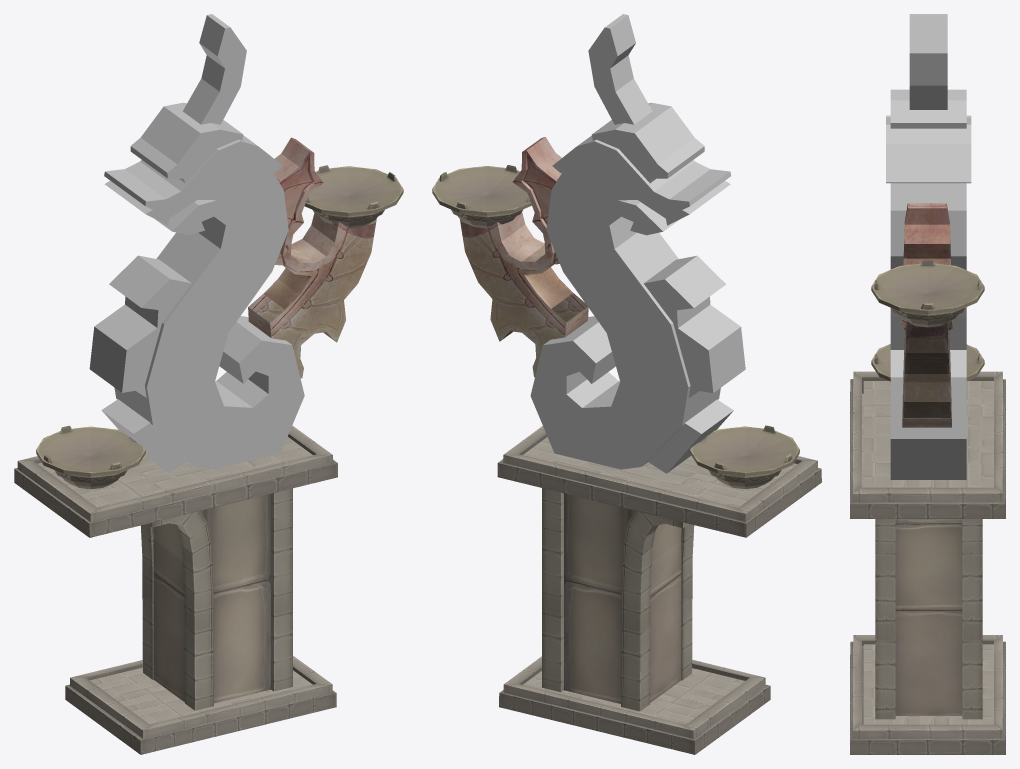
Rendered from mod_zlc_jianzhu004_xy01.FBX.
3 renders of one model, left to right at view 1: azimuth 30°, elevation 25°; view 2: azimuth 150°, elevation 25°; view 3: azimuth 270°, elevation 25°, orthographic. The views are drawn at different scales.
Visible parts, largest first — view 1: mod_zlc_jianzhu004_xy01; view 2: mod_zlc_jianzhu004_xy01; view 3: mod_zlc_jianzhu004_xy01.
Boxes of the visible parts, left/top/right/bottom form: mod_zlc_jianzhu004_xy01: left=14, top=14, right=403, bottom=754; mod_zlc_jianzhu004_xy01: left=432, top=14, right=821, bottom=754; mod_zlc_jianzhu004_xy01: left=850, top=14, right=1005, bottom=754.
Bounding box in the file's own units: 1352 × 2481 × 501.
